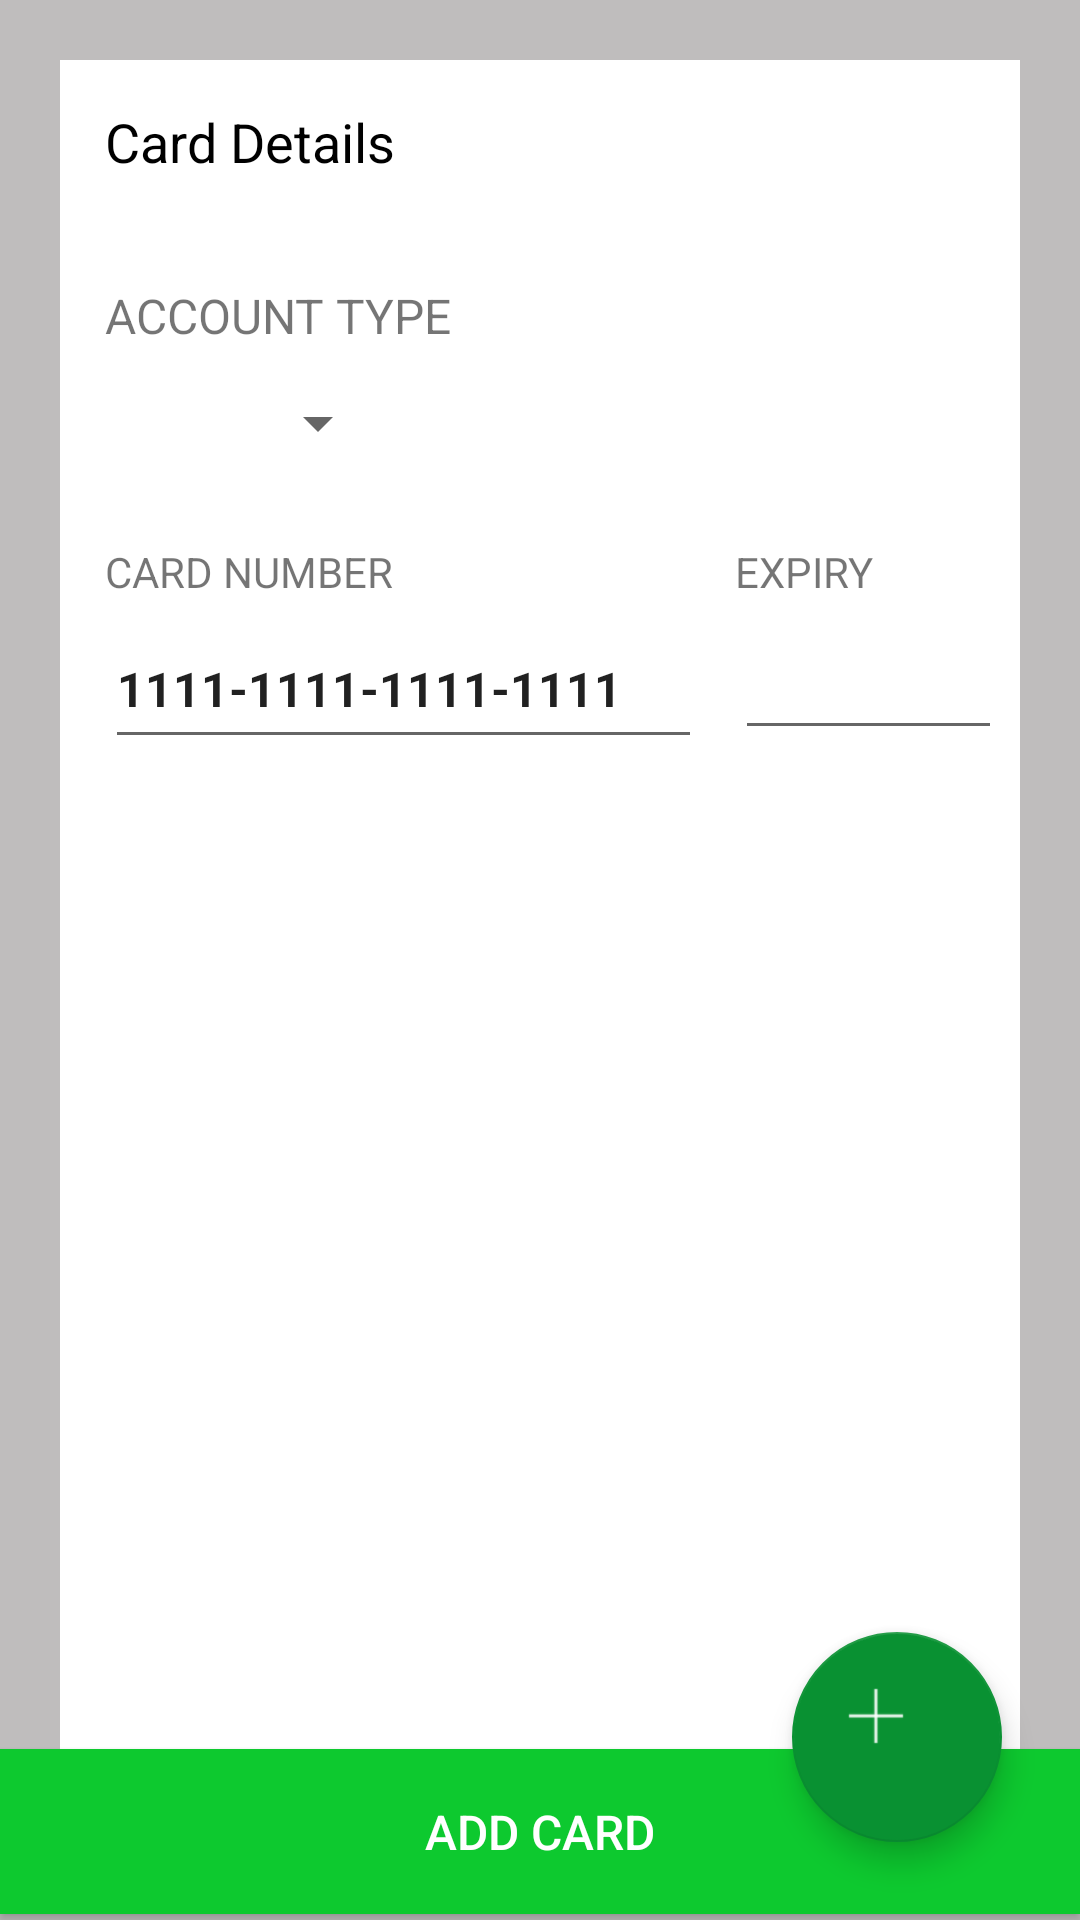

Icon click points for this 1080w x 1920h phone screenshot, format (x=x, y=y):
floating: (x=897, y=1737)
